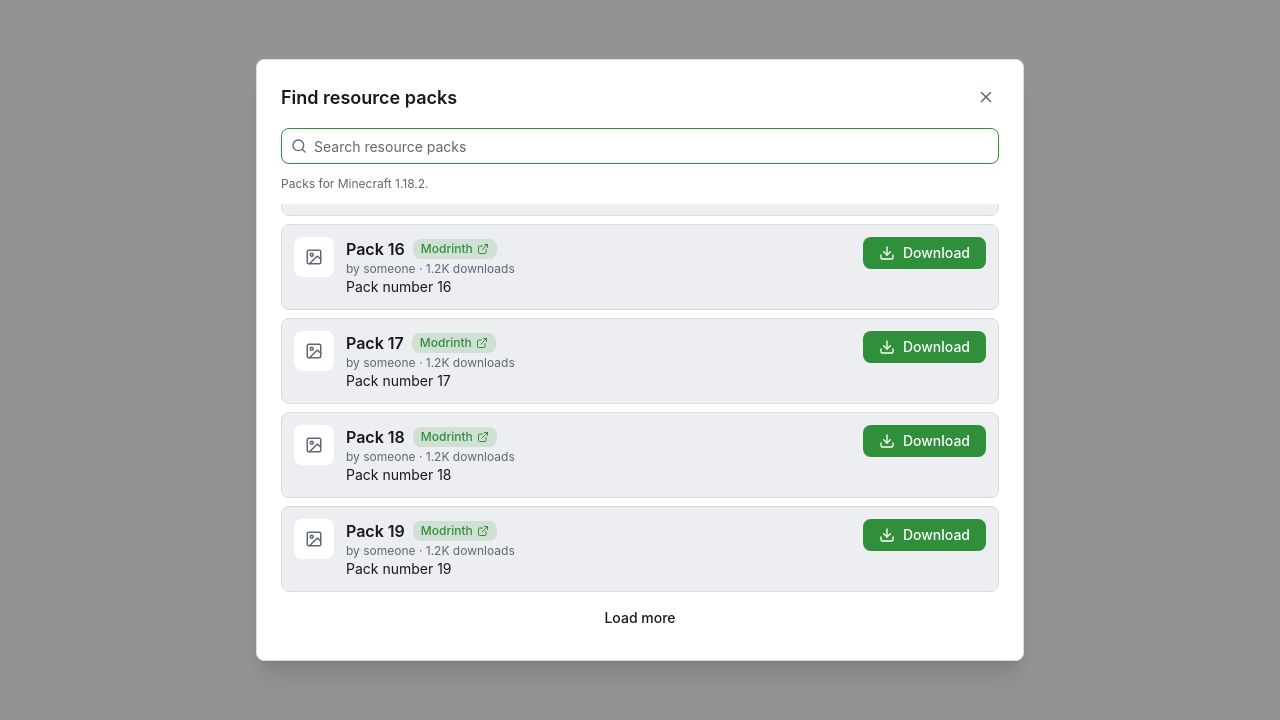
FindPacksDialog › lists results for the profile's version and loads more
(page scrolled)
Check: the text "Packs for Minecraft 1.18.2." is shown, box [281, 176, 429, 191]
Click the button "Load more" at (640, 618), box [281, 600, 999, 636]
(page scrolled)
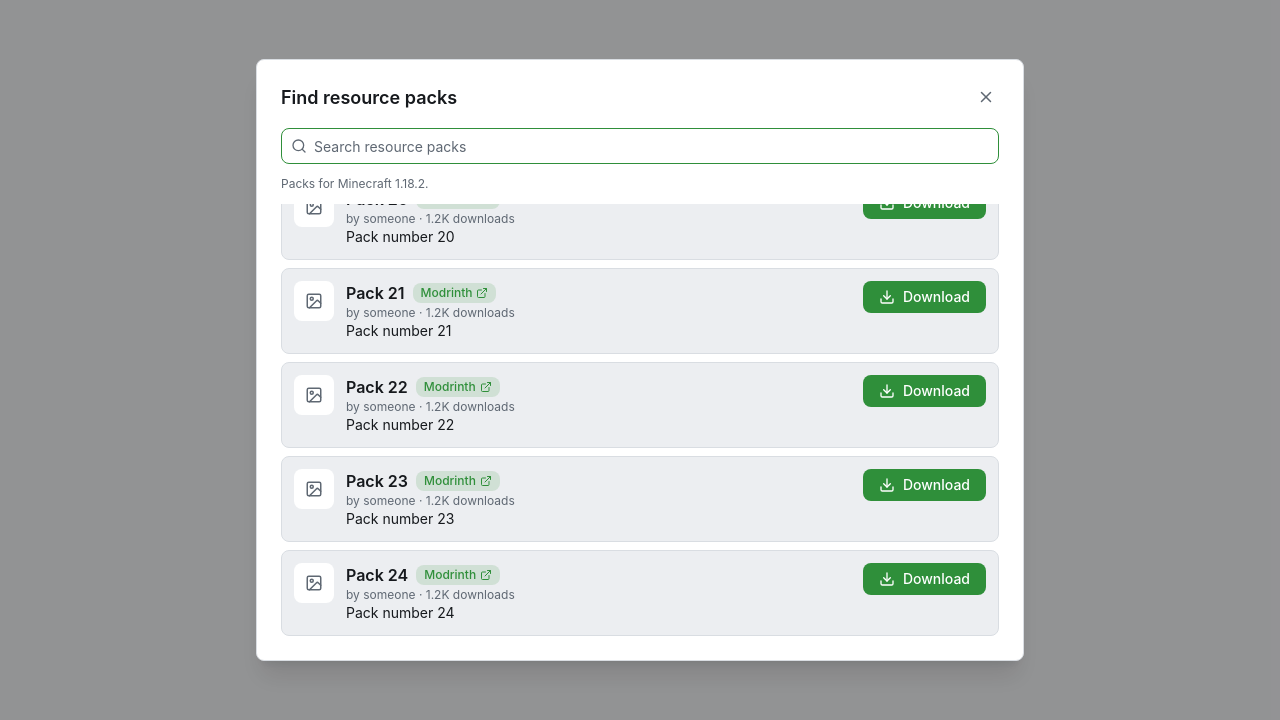
Check: the text "Pack 24" is shown, box [346, 563, 408, 587]
Check: the button "Load more" is gone
